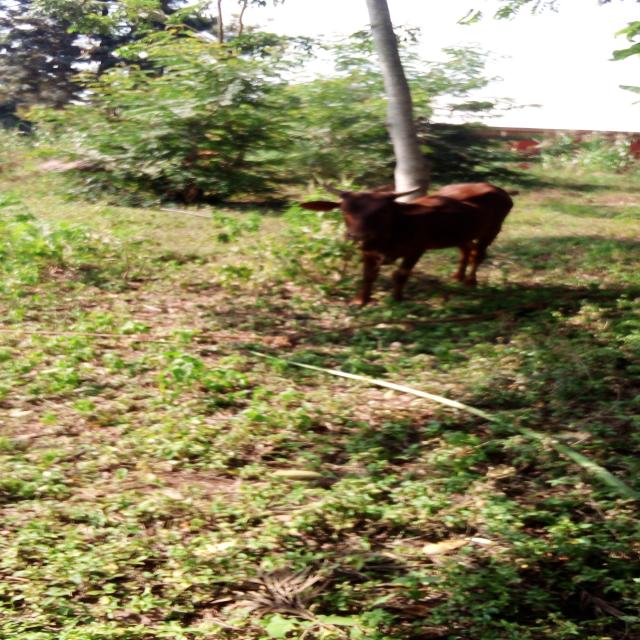Front: (300, 182, 514, 305)
